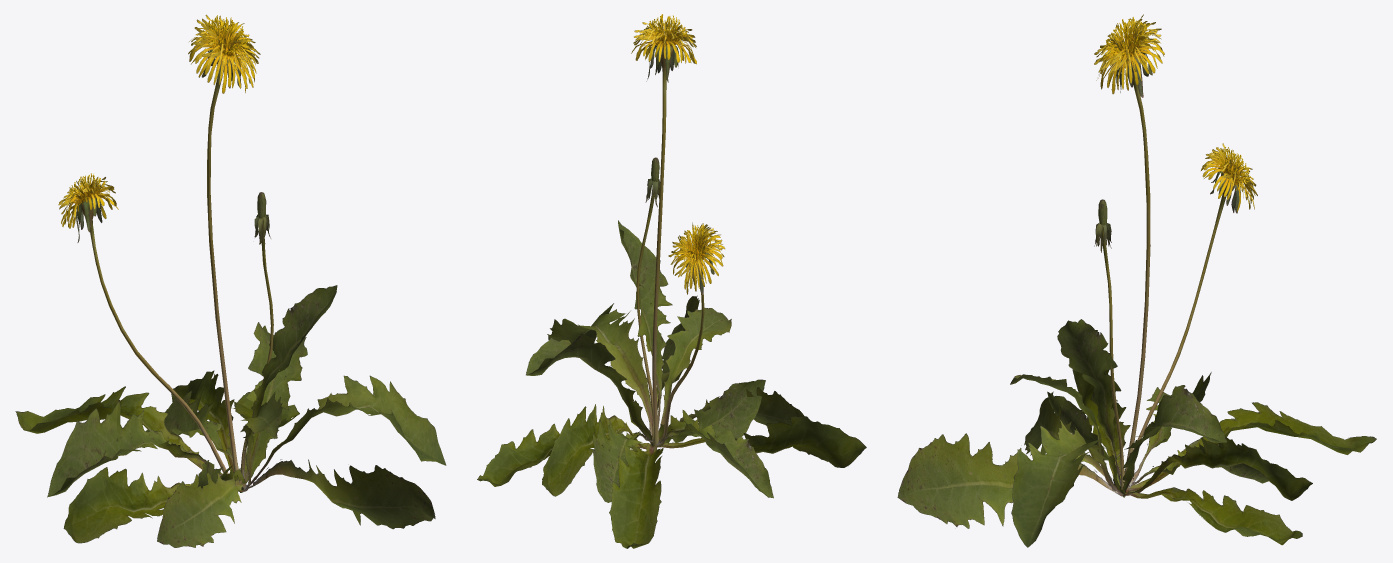
The model's file is dandelion_01_single_2.fbx.
The picture shows the model from 3 angles, left to right: view 1: azimuth 30°, elevation 25°; view 2: azimuth 150°, elevation 25°; view 3: azimuth 270°, elevation 25°; orthographic projection. The views are drawn at different scales.
Parts seen in each view (by area): view 1: dandelion_01_single_2; view 2: dandelion_01_single_2; view 3: dandelion_01_single_2.
Part boxes in pixels (x1,y1,x2,y2): dandelion_01_single_2: (15, 14, 446, 547); dandelion_01_single_2: (477, 14, 866, 548); dandelion_01_single_2: (897, 14, 1376, 547).
Bounding box in the file's own units: 0.2203 × 0.28 × 0.2577.
Materials: 1 (1 with a texture image).
